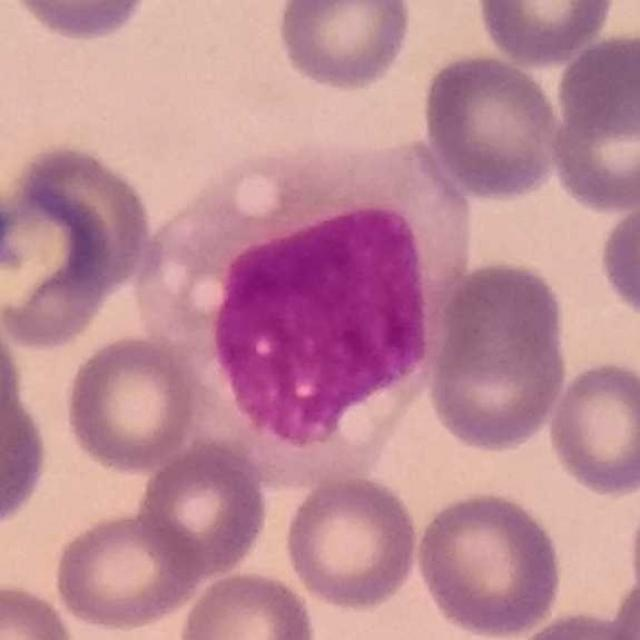Monocyte: (142, 139, 482, 490)
RBC: (0, 138, 157, 356), (422, 255, 572, 455), (410, 487, 566, 640), (418, 50, 566, 203), (60, 332, 205, 475), (279, 471, 422, 613), (132, 436, 272, 580), (50, 508, 207, 634), (545, 45, 639, 217), (543, 356, 640, 499), (272, 0, 416, 92), (175, 567, 319, 640), (474, 0, 619, 68), (0, 364, 53, 535), (2, 0, 158, 45), (595, 188, 640, 324), (0, 579, 79, 640), (507, 606, 637, 640), (0, 302, 26, 453), (605, 570, 640, 640), (624, 478, 640, 629)
